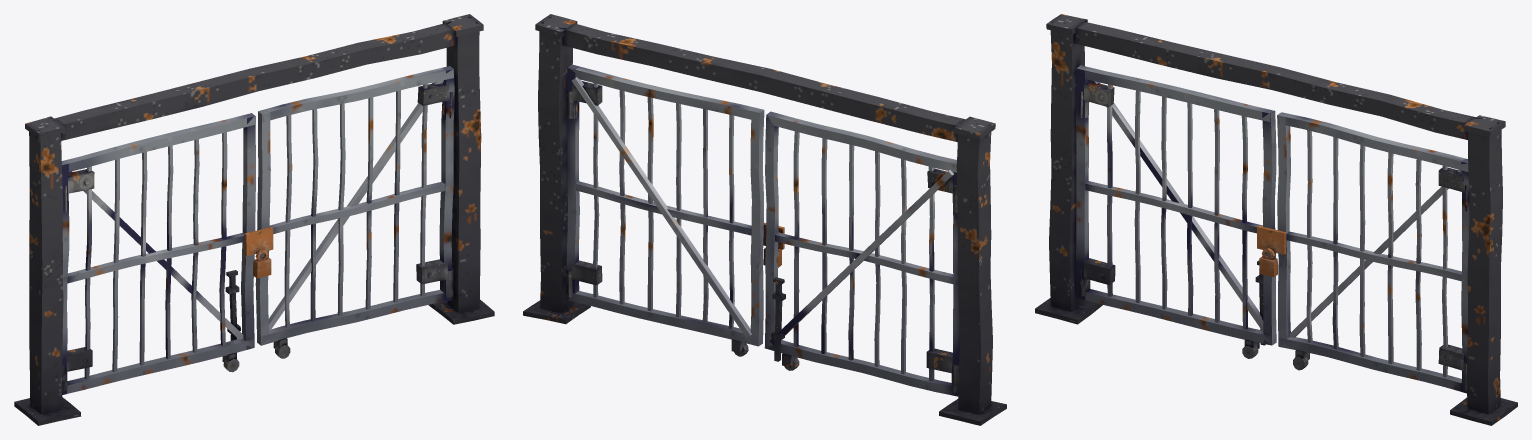
The model's file is YardGate.glb.
3 renders of one model, left to right at view 1: azimuth 30°, elevation 25°; view 2: azimuth 150°, elevation 25°; view 3: azimuth 330°, elevation 25°, orthographic.
Parts seen in each view (by area): view 1: Doors, Frame, Hardware, Padlock; view 2: Doors, Frame, Hardware; view 3: Doors, Frame, Hardware, Padlock.
Part boxes in pixels (x1,y1,x2,y2): Doors: (61,66,454,394); Frame: (25,14,483,414); Hardware: (14,83,494,425); Padlock: (244,227,273,278); Doors: (566,64,959,396); Frame: (535,14,995,413); Hardware: (523,81,1006,425); Doors: (1075,65,1469,393); Frame: (1046,14,1505,414); Hardware: (1035,82,1517,425); Padlock: (1257,225,1285,277).
Bounding box in the file's own units: 8.8 × 5.37 × 0.849.
Materials: 4 (4 with a texture image).
